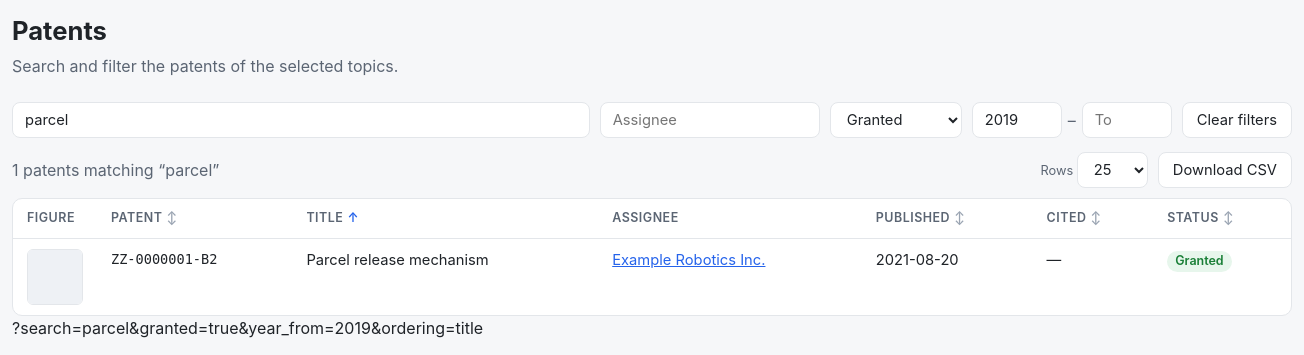
Test: Patents › clears all filters at once
Click the button "Clear filters": point(1237, 120) [1182,102,1292,138]
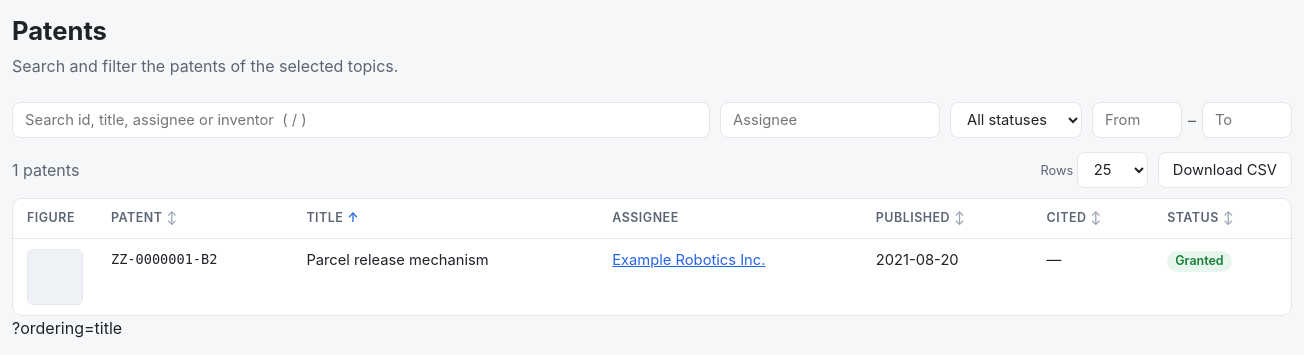
Expected: the text with test id "location" reads "?ordering=title", [12,318,122,338]
Expected: the search field named "Search patents" is empty, [12,102,710,138]
Expected: the button "Clear filters" is gone
